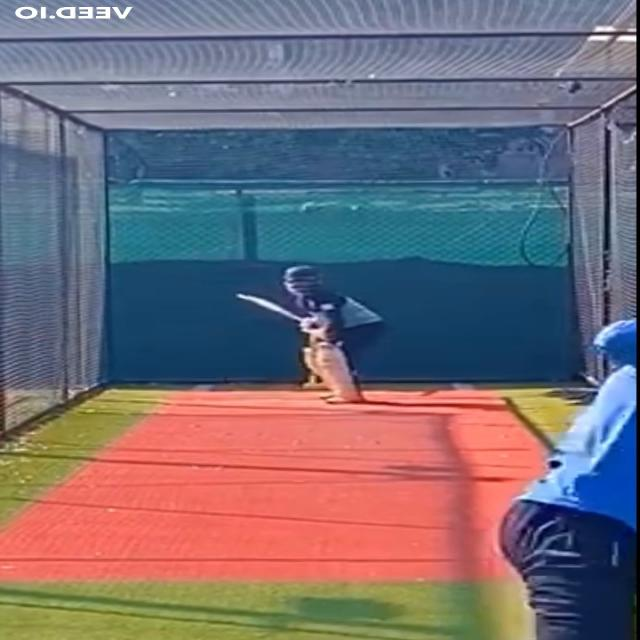ball: (294, 200, 320, 219)
